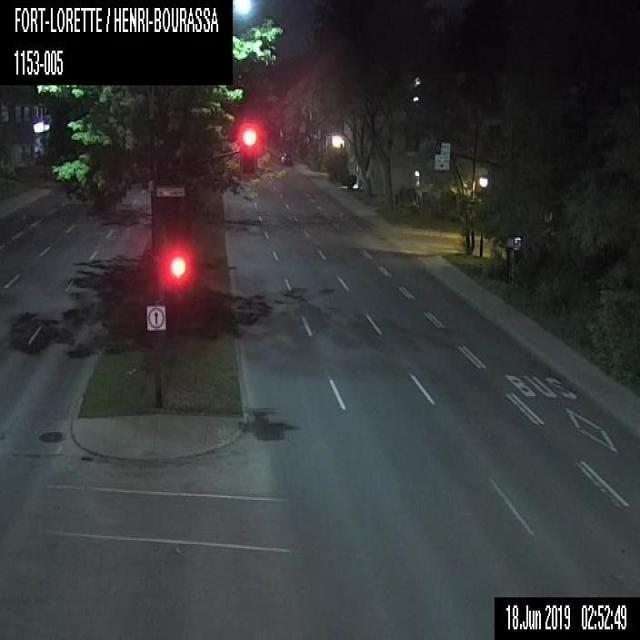vehicle: (277, 151, 293, 164)
